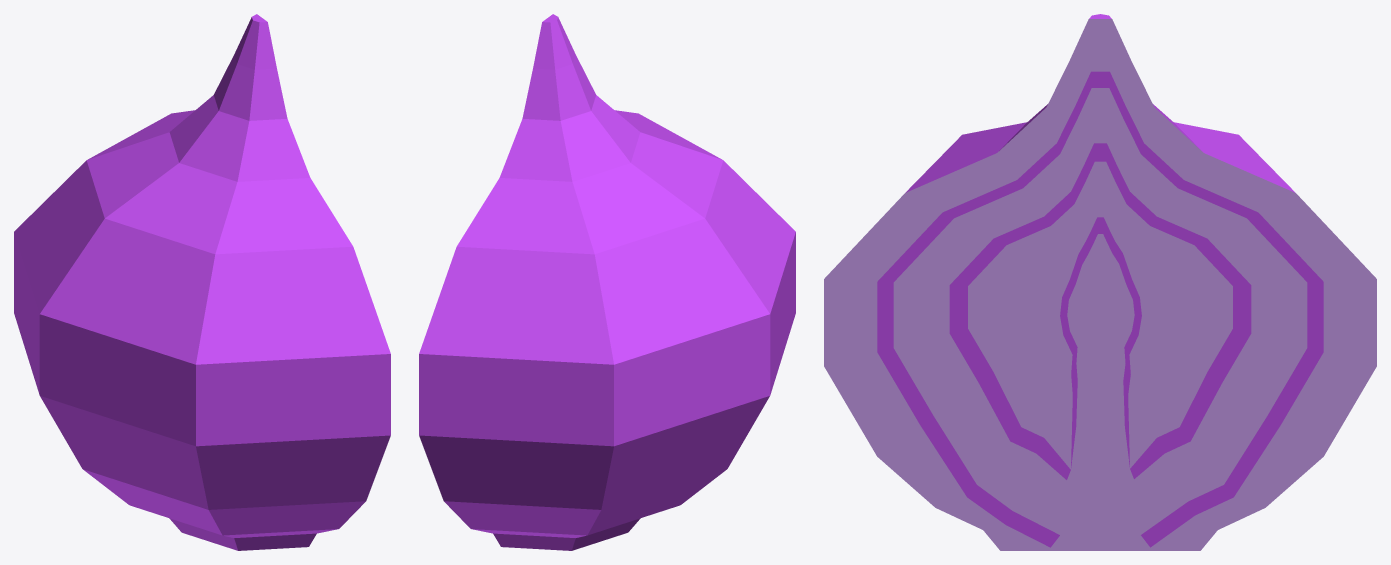
The model's file is onion02.obj.
The picture shows the model from 3 angles, left to right: view 1: azimuth 30°, elevation 25°; view 2: azimuth 150°, elevation 25°; view 3: azimuth 270°, elevation 25°; orthographic projection. The views are drawn at different scales.
Parts seen in each view (by area): view 1: Cylinder.001_Cylinder.002; view 2: Cylinder.001_Cylinder.002; view 3: Cylinder.001_Cylinder.002.
Part boxes in pixels (x1,y1,x2,y2): Cylinder.001_Cylinder.002: [14, 14, 390, 550]; Cylinder.001_Cylinder.002: [419, 14, 795, 550]; Cylinder.001_Cylinder.002: [824, 14, 1376, 550].
Bounding box in the file's own units: 0.0346 × 0.0735 × 0.0692.
Materials: 1 (1 with a texture image).
